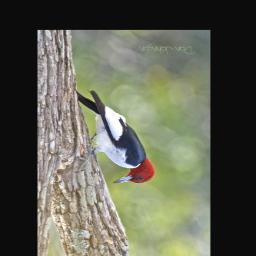Woodpecker: (72, 88, 158, 187)
